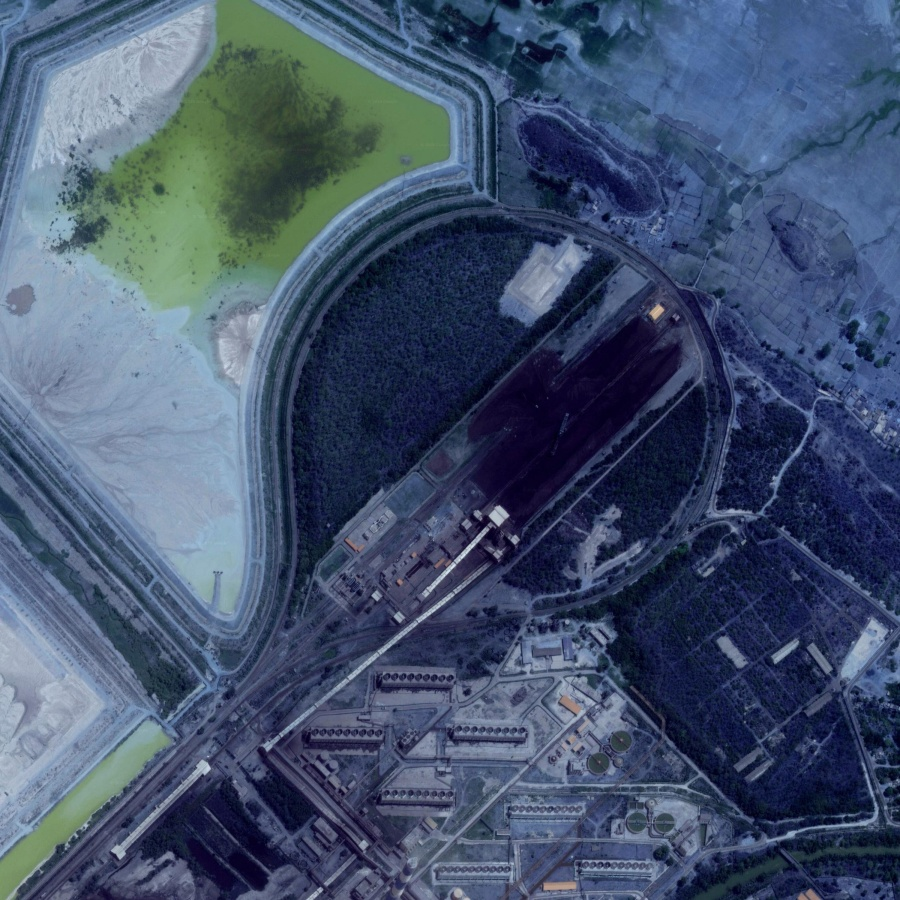PowerPlant: (422, 284, 700, 566)
